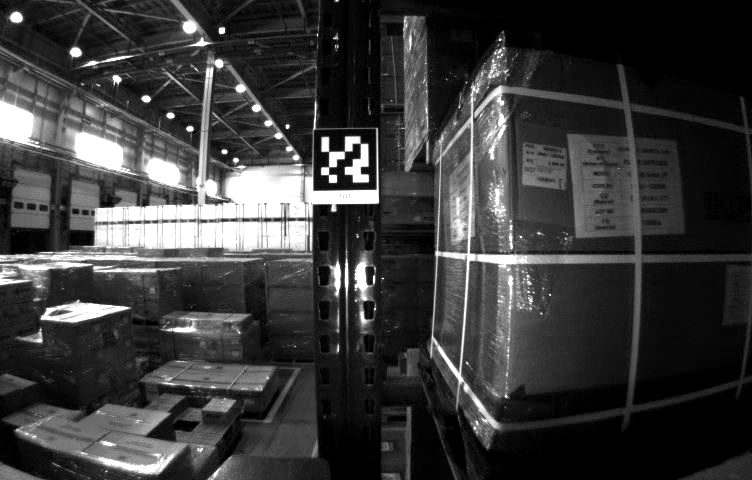True Barcode: (521, 143, 569, 191)
